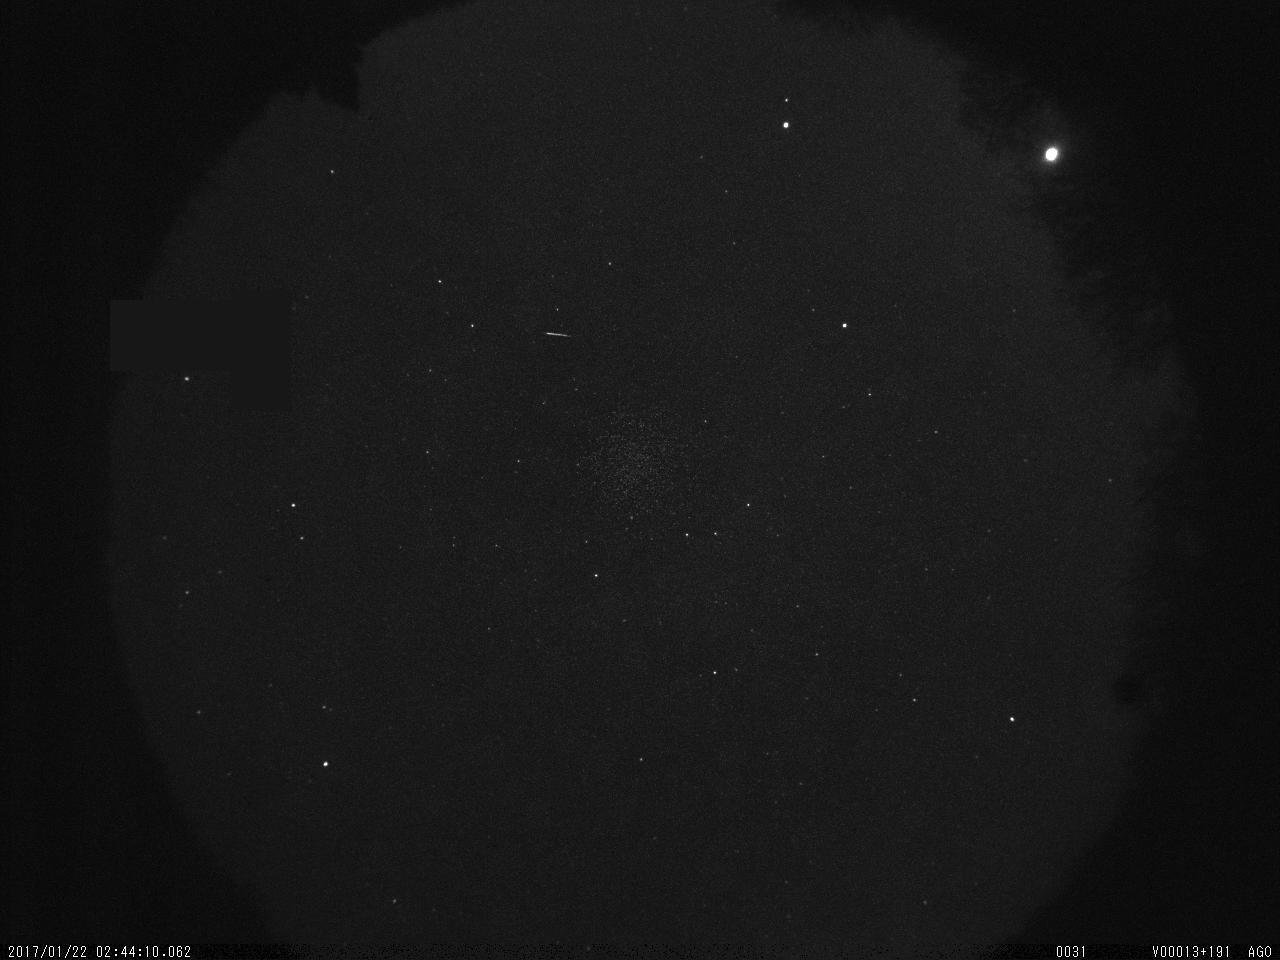meteor: (540, 329, 582, 342)
